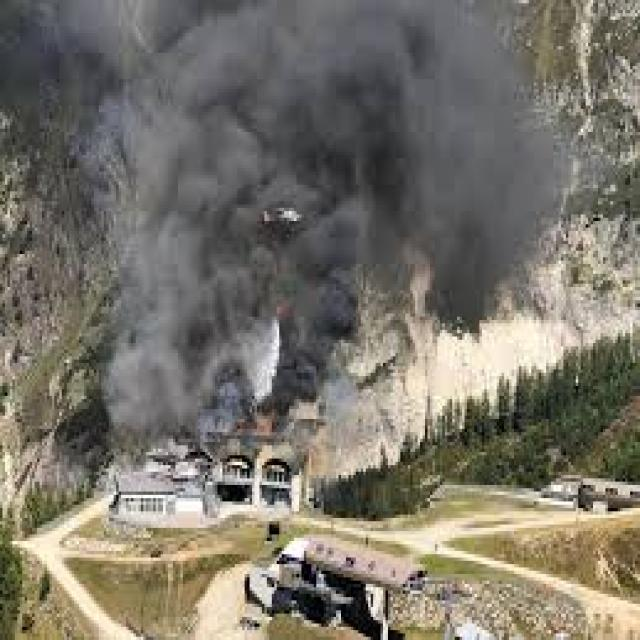smoke: (125, 35, 508, 270), (124, 280, 278, 403)
